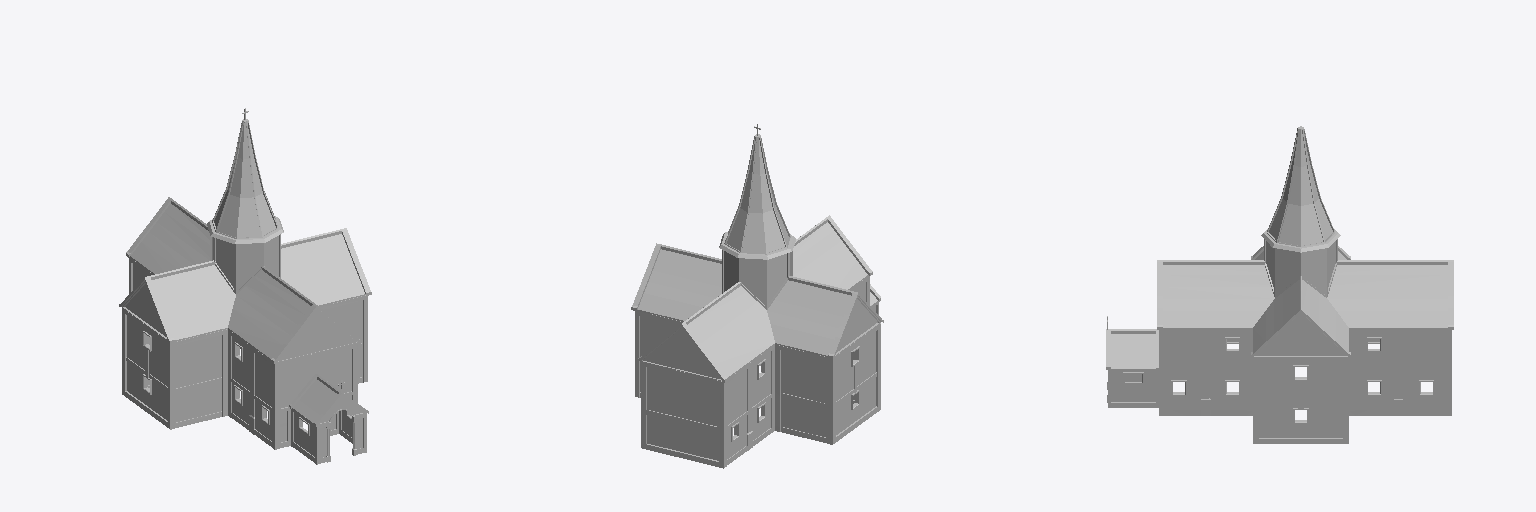
Rendered from chapel.obj.
3 renders of one model, left to right at view 1: azimuth 30°, elevation 25°; view 2: azimuth 150°, elevation 25°; view 3: azimuth 270°, elevation 25°, orthographic.
Visible parts, largest first — view 1: Roof.001, Base.001, chapel.001; view 2: Roof.001, Base.001, chapel.001; view 3: Roof.001, Base.001, chapel.001.
Part boxes in pixels (x1,y1,x2,y2): Roof.001: (119, 108, 371, 426); Base.001: (122, 257, 367, 464); chapel.001: (143, 331, 356, 462); Roof.001: (631, 124, 883, 382); Base.001: (635, 276, 880, 468); chapel.001: (731, 346, 859, 450); Roof.001: (1106, 126, 1453, 369); Base.001: (1108, 329, 1451, 443); chapel.001: (1107, 333, 1433, 423).
Size of the model in its own units: 12.43 by 16.41 by 18.5.